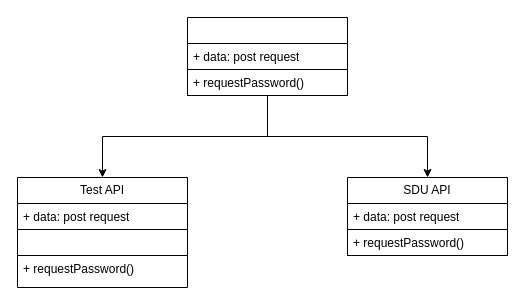
The diagram is 525 pixels wide and 308 high, and some of its shapes have lost their labels. The shapes that lost their labels are listed below. From the top down, each one's box as (x1, y1, x2, y2) in pixels, then its label:
(186, 16, 348, 96): API Interface
(16, 228, 188, 256): + test_users: fake data
